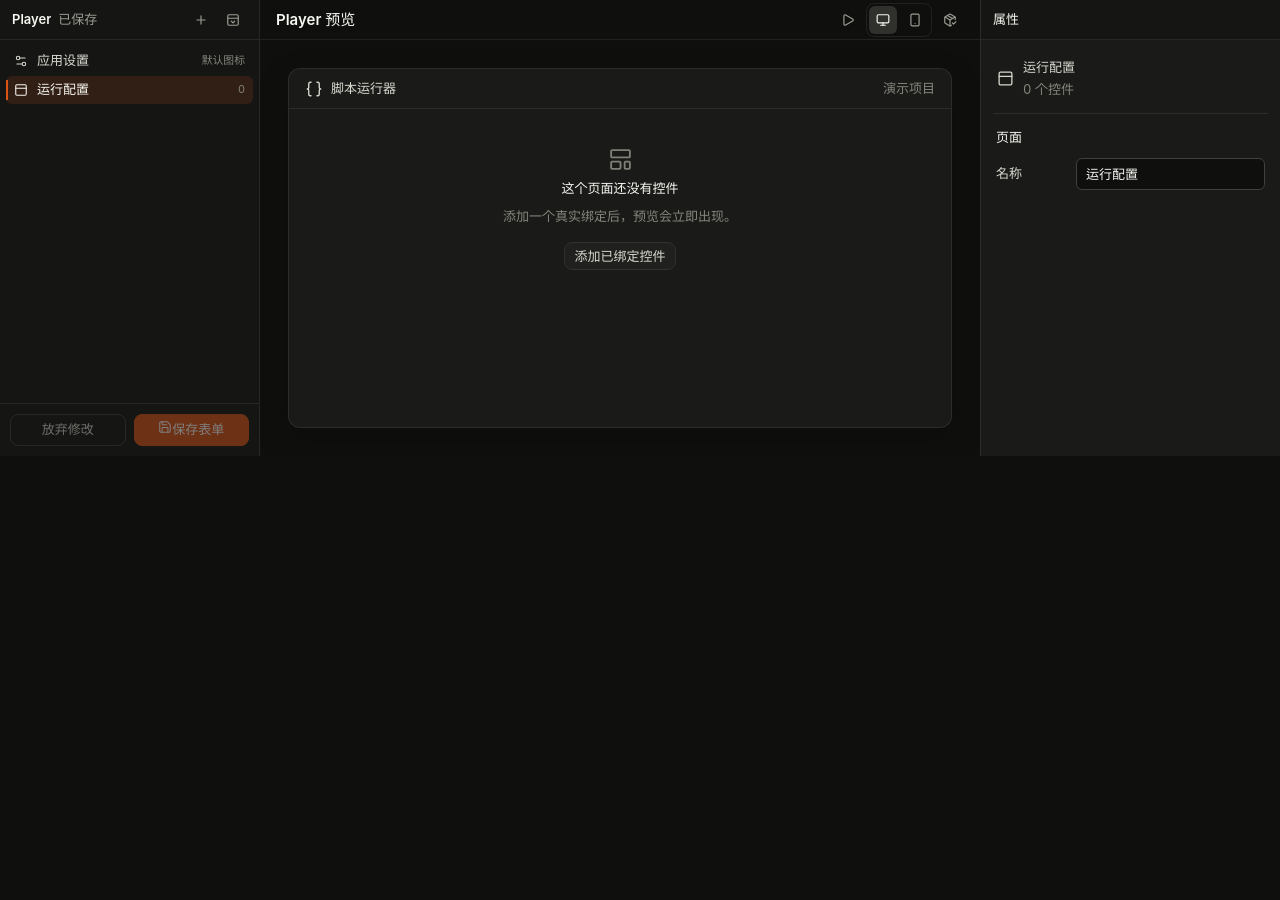
Test: VNextPlayerWorkspace schema3 authoring › 目录请求失败时不展示可伪造的空控件入口
What coordinates should you click on to do the following:
click the button named "添加已绑定控件"
I would click on:
 (233, 20)
Its box is [219,6,247,34].
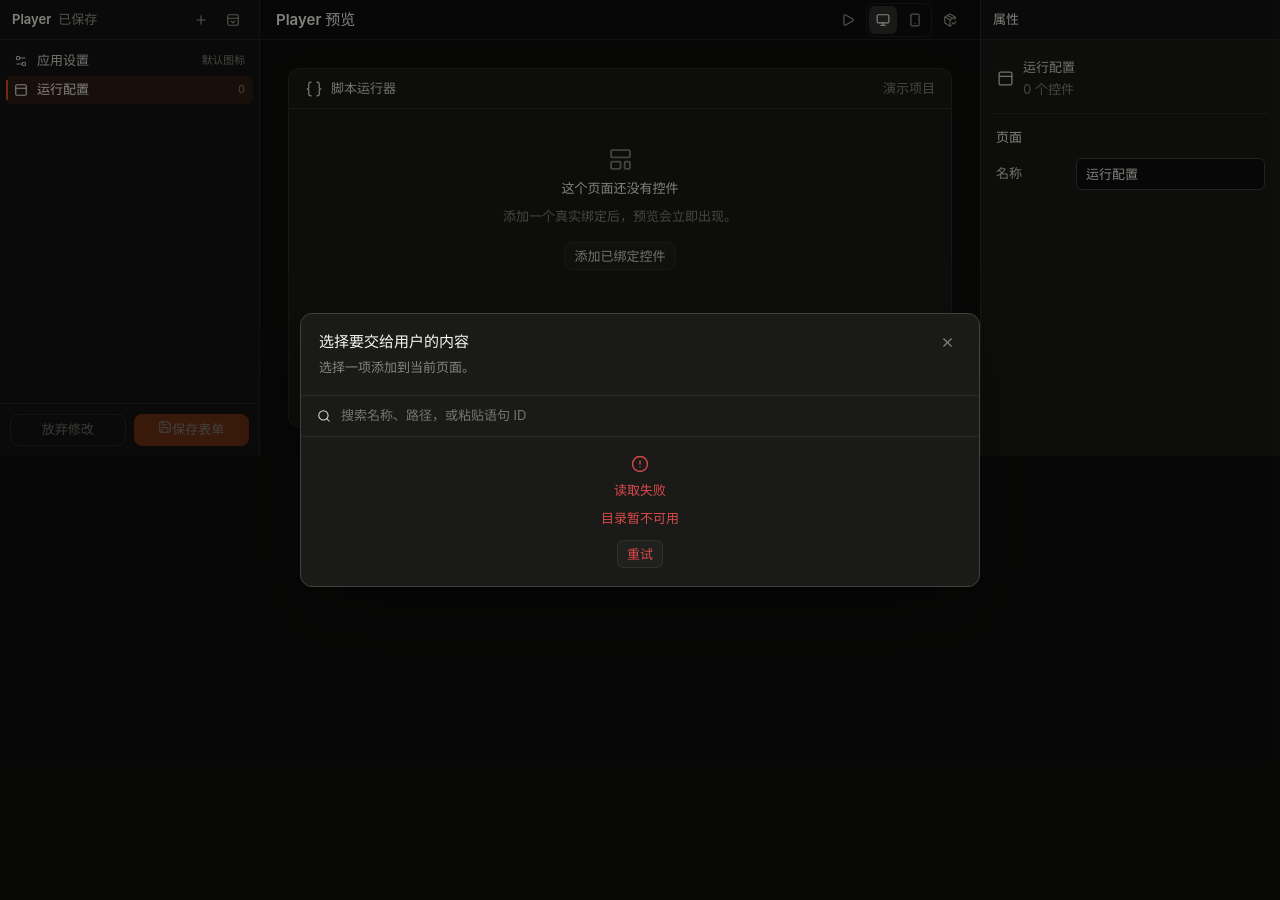
Check: the text "目录暂不可用" is shown, box [601,508,679,529]
